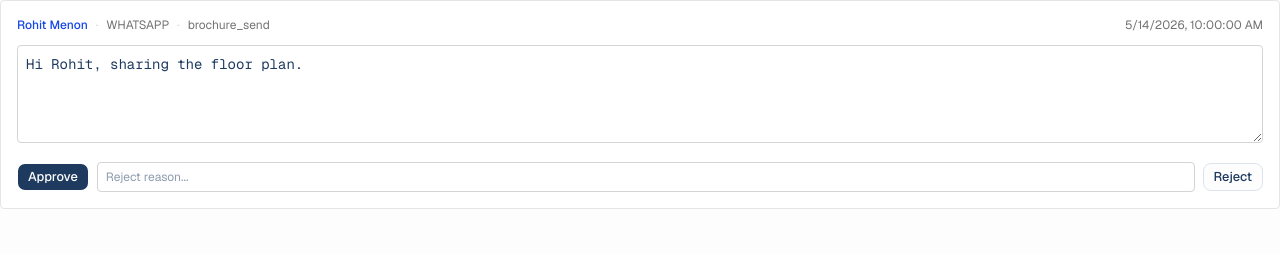
<DraftCard> — reject flow › blocks reject when reason is too short (≥3 chars)
The image size is (1280, 254).
In the field with placeholder "Reject reason...": [646, 177] box top-left (97, 162), bottom-right (1194, 192), type "no"
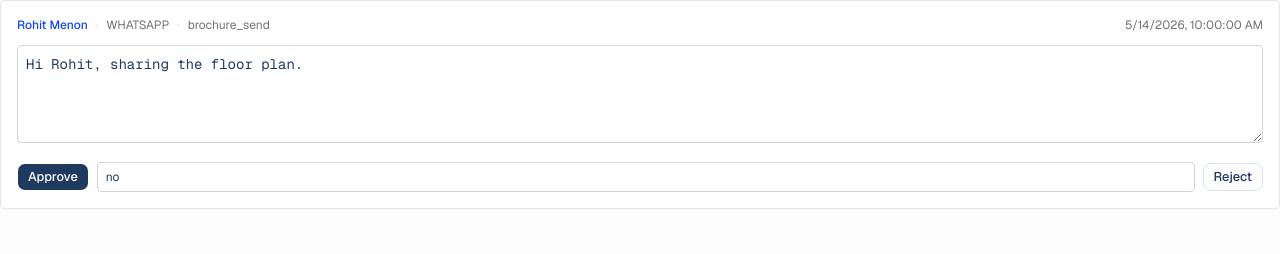
Click the button with test id "draft-reject-q-1": [1233, 177] box top-left (1202, 163), bottom-right (1263, 191)
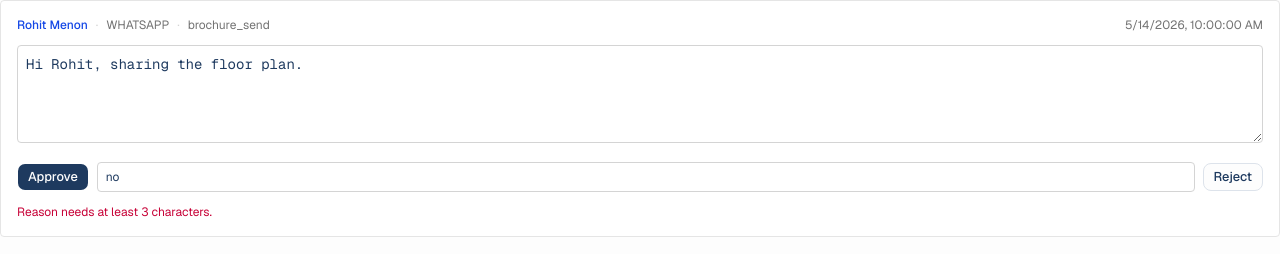
Check: the text with test id "draft-error-q-1" shows "at least 3 characters", box top-left (17, 204), bottom-right (212, 220)
